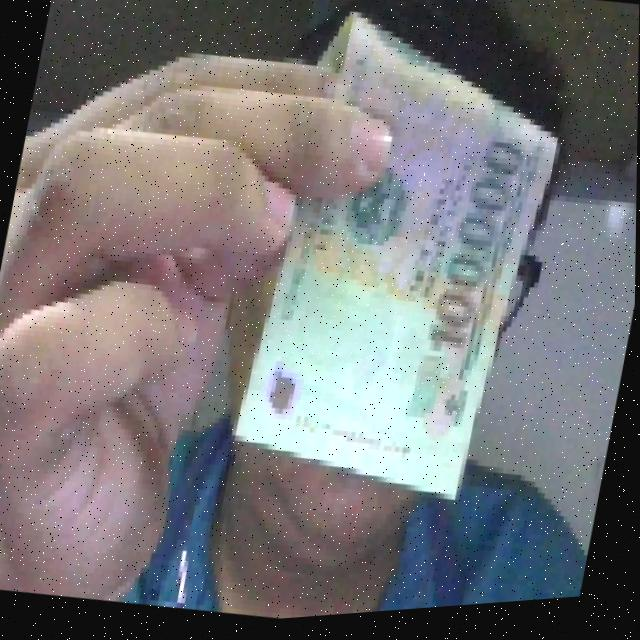100 000 VND: (220, 0, 584, 532)
